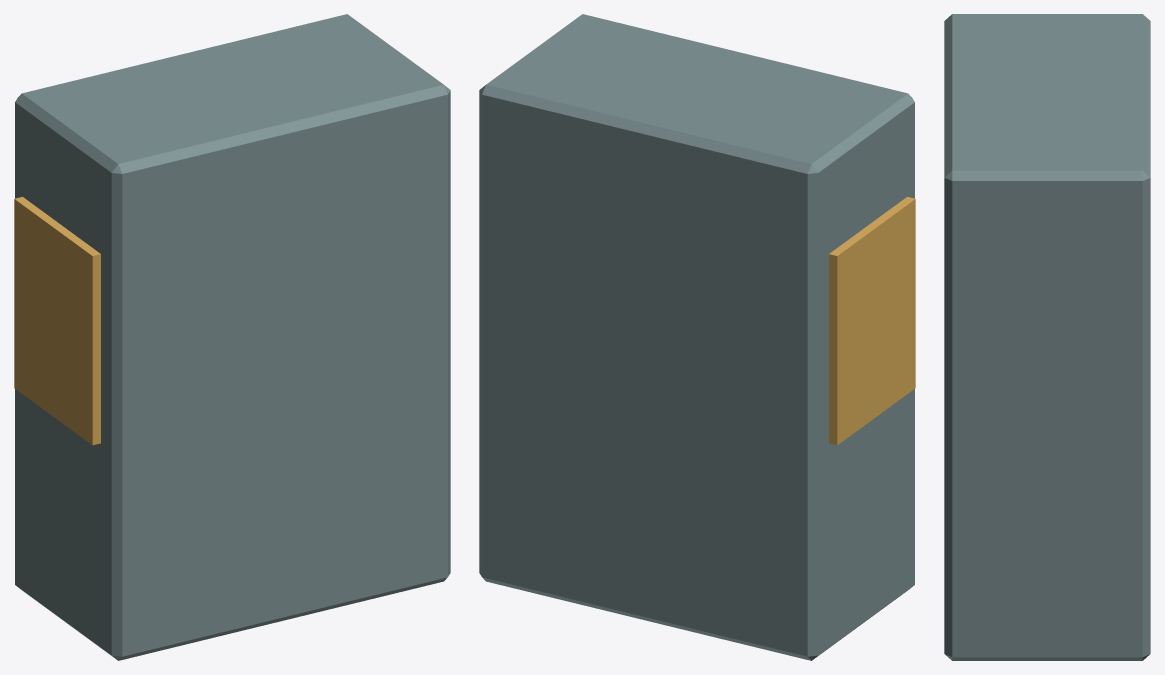
File: RoadPlan_Barrier_EndProtection.glb
The picture shows the model from 3 angles, left to right: view 1: azimuth 30°, elevation 25°; view 2: azimuth 150°, elevation 25°; view 3: azimuth 270°, elevation 25°; orthographic projection.
Visible parts, largest first — view 1: RoadPlan_Barrier_EndProtection_CrashCushion, RoadPlan_Barrier_EndProtection_Reflector; view 2: RoadPlan_Barrier_EndProtection_CrashCushion, RoadPlan_Barrier_EndProtection_Reflector; view 3: RoadPlan_Barrier_EndProtection_CrashCushion.
Boxes of the visible parts, x1,y1,x2,y2 form: RoadPlan_Barrier_EndProtection_CrashCushion: (15, 14, 450, 660); RoadPlan_Barrier_EndProtection_Reflector: (14, 196, 100, 445); RoadPlan_Barrier_EndProtection_CrashCushion: (479, 14, 914, 660); RoadPlan_Barrier_EndProtection_Reflector: (829, 196, 915, 445); RoadPlan_Barrier_EndProtection_CrashCushion: (944, 14, 1150, 660).
Size of the model in its own units: 0.6175 by 0.84 by 0.32.
